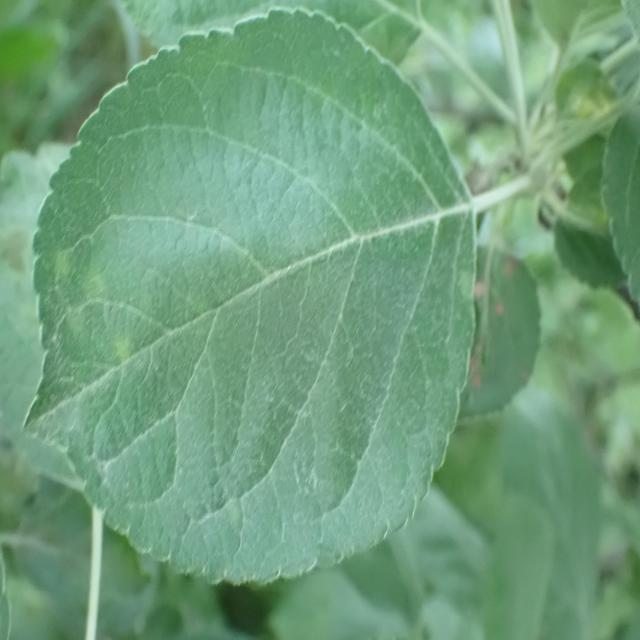scab: (40, 127, 458, 471)
